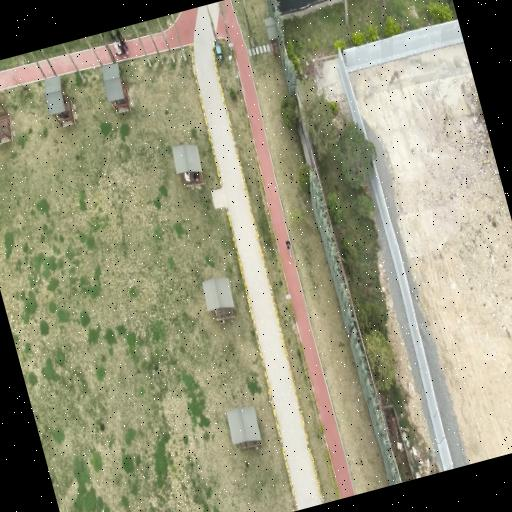person: (116, 29, 128, 54), (109, 31, 121, 56), (285, 240, 292, 258), (183, 172, 189, 183), (192, 173, 198, 182)
